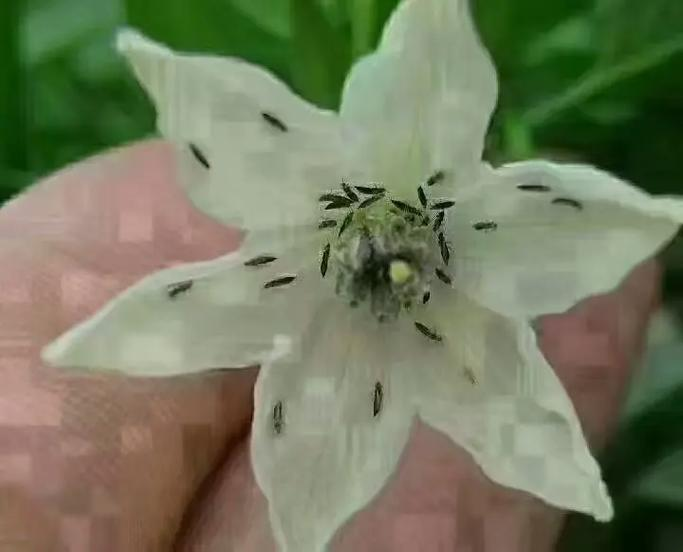Phlaeothripidae: (362, 380, 393, 425), (163, 276, 198, 305), (259, 270, 298, 294), (411, 320, 444, 348), (434, 233, 457, 267), (514, 178, 557, 196), (240, 252, 279, 270), (186, 141, 210, 170), (260, 112, 291, 134), (318, 239, 334, 281), (355, 181, 392, 199), (550, 192, 586, 210), (317, 190, 360, 205), (470, 218, 499, 237), (336, 181, 361, 202), (357, 194, 383, 212), (338, 212, 355, 238), (275, 405, 285, 442)
